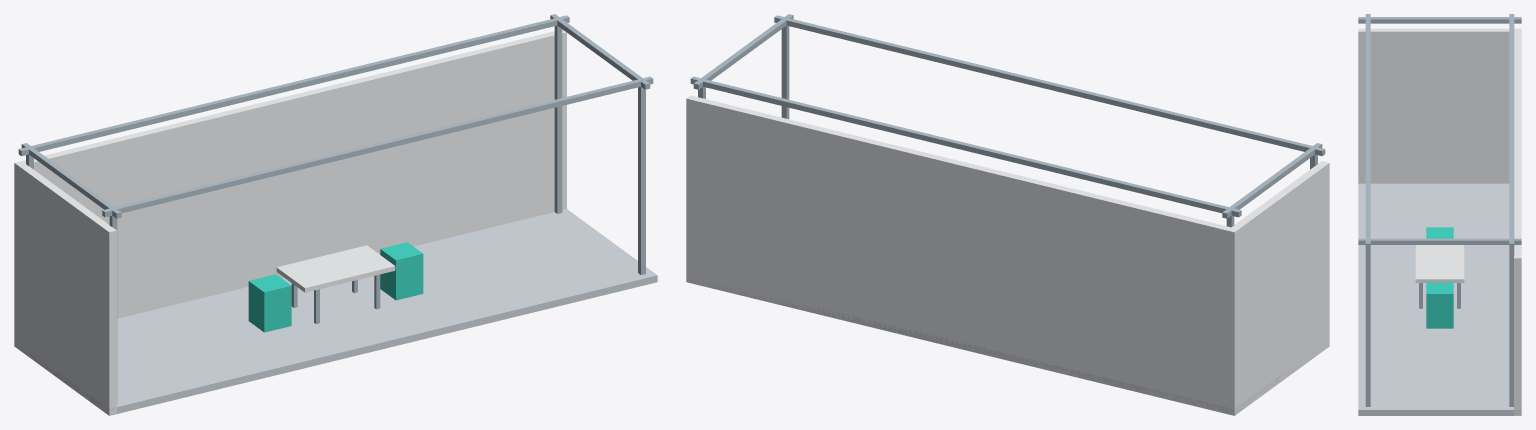
3 renders of one model, left to right at view 1: azimuth 30°, elevation 25°; view 2: azimuth 150°, elevation 25°; view 3: azimuth 270°, elevation 25°, orthographic. The views are drawn at different scales.
Visible parts, largest first — view 1: Exhibition Booth Concept; view 2: Exhibition Booth Concept; view 3: Exhibition Booth Concept.
Boxes of the visible parts, x1,y1,x2,y2 form: Exhibition Booth Concept: (14, 14, 657, 415); Exhibition Booth Concept: (686, 14, 1329, 415); Exhibition Booth Concept: (1358, 14, 1521, 415).
Bounding box in the file's own units: 10 × 3.49 × 3.
